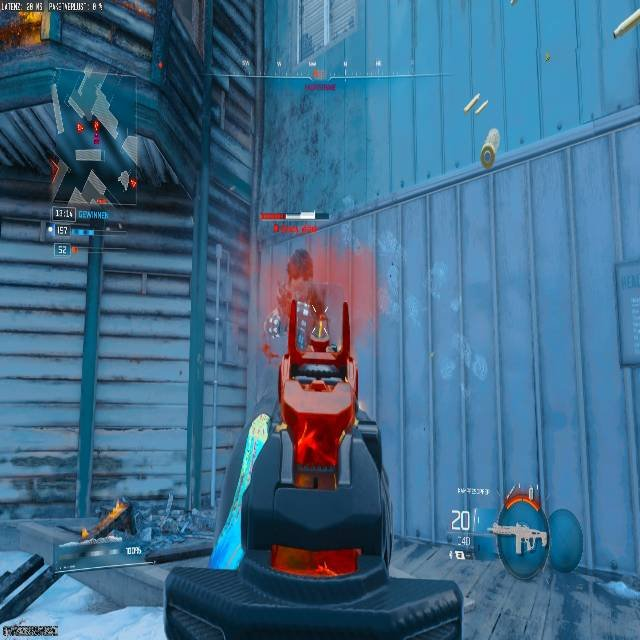head: (287, 248, 313, 280)
player: (262, 249, 358, 466), (266, 248, 329, 354)
